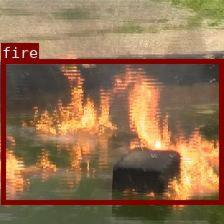fire: (0, 59, 222, 203)
